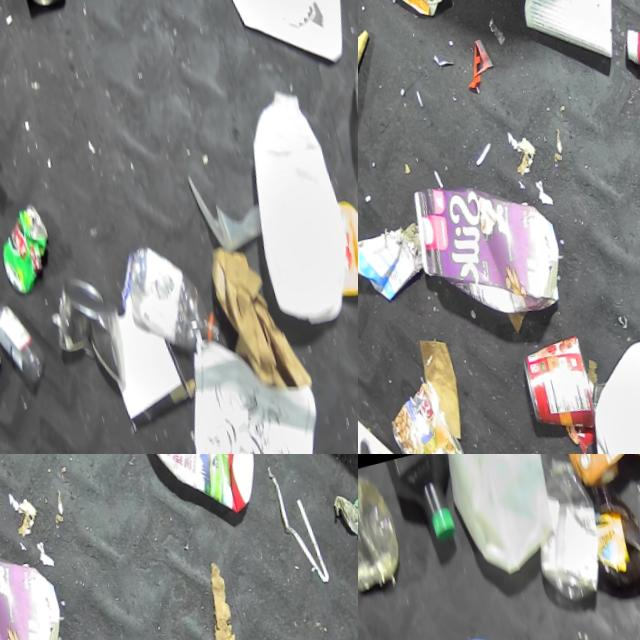can: (37, 269, 126, 397), (511, 335, 597, 445), (375, 376, 463, 454), (0, 195, 63, 297), (13, 0, 85, 22)
milk_jug: (218, 79, 358, 340), (436, 454, 570, 587), (564, 331, 640, 454)
non_white_jug: (400, 162, 569, 342), (116, 454, 266, 537), (0, 522, 70, 640)
plastic_bottle: (512, 454, 614, 613), (105, 239, 219, 375), (313, 0, 358, 220), (358, 465, 408, 609)
